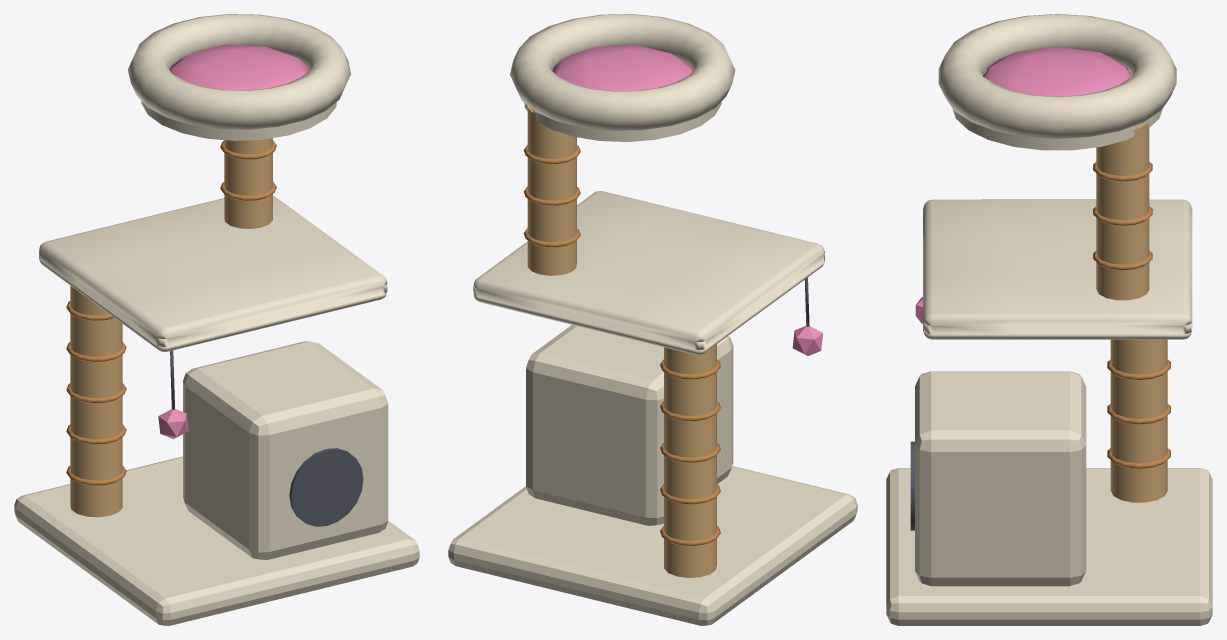
File: arranhador.glb
3 renders of one model, left to right at view 1: azimuth 30°, elevation 25°; view 2: azimuth 150°, elevation 25°; view 3: azimuth 270°, elevation 25°, orthographic. The views are drawn at different scales.
Parts seen in each view (by area): view 1: arranhador; view 2: arranhador; view 3: arranhador.
Part boxes in pixels (x1,y1,x2,y2): arranhador: (14, 14, 419, 625); arranhador: (448, 14, 857, 625); arranhador: (886, 14, 1212, 625).
Bounding box in the file's own units: 0.8 × 1.4 × 0.8.
